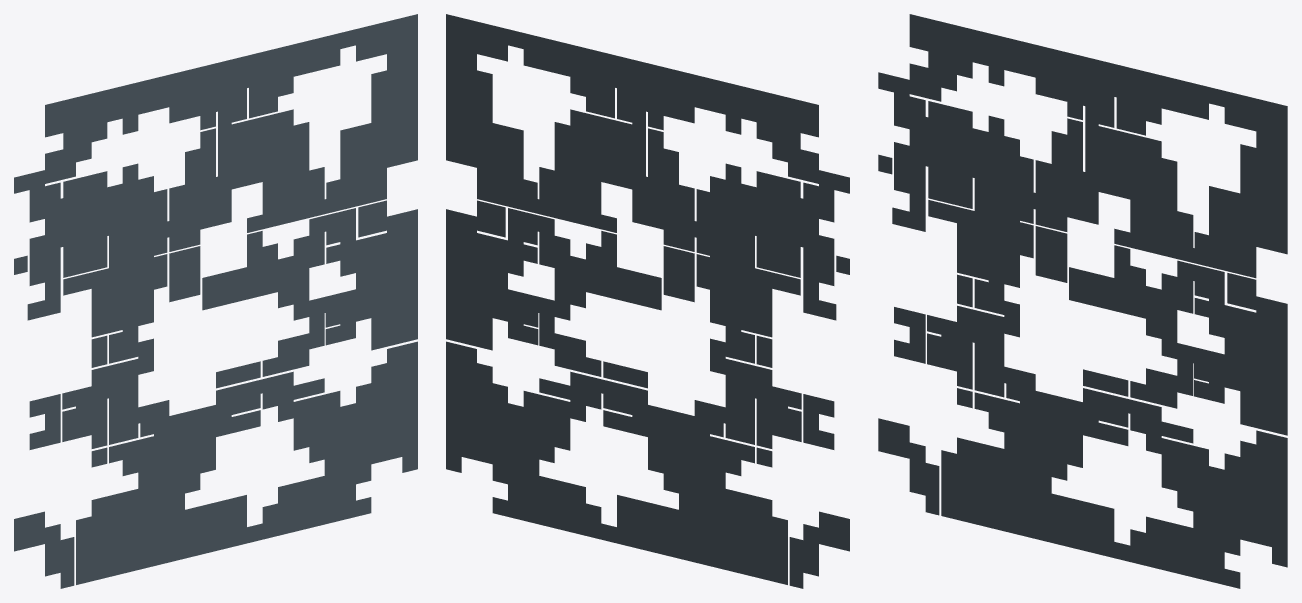
Rendered from LevelBackground2.fbx.
The picture shows the model from 3 angles, left to right: view 1: azimuth 30°, elevation 25°; view 2: azimuth 150°, elevation 25°; view 3: azimuth 330°, elevation 25°; orthographic projection.
Parts seen in each view (by area): view 1: pPlane6; view 2: pPlane6; view 3: pPlane6.
Boxes of the visible parts, x1,y1,x2,y2 form: pPlane6: [14, 14, 417, 588]; pPlane6: [446, 14, 849, 588]; pPlane6: [878, 14, 1287, 588].
Size of the model in its own units: 867 by 1000 by 3.05e-05.
